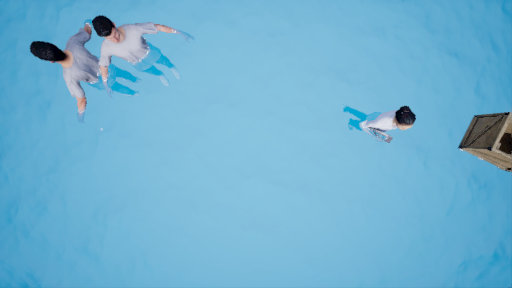person: (37, 12, 191, 124), (339, 100, 417, 146)
